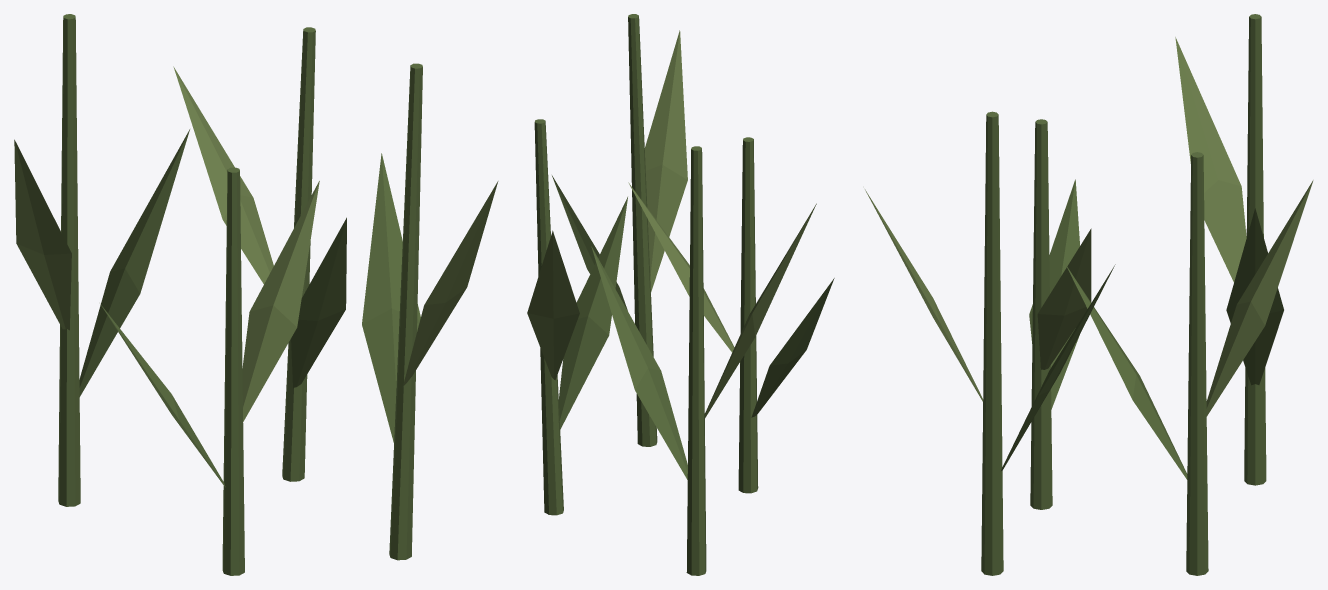
Rendered from reeds_1_spring.glb.
The picture shows the model from 3 angles, left to right: view 1: azimuth 30°, elevation 25°; view 2: azimuth 150°, elevation 25°; view 3: azimuth 270°, elevation 25°; orthographic projection. The views are drawn at different scales.
Parts seen in each view (by area): view 1: reeds_1_spring; view 2: reeds_1_spring; view 3: reeds_1_spring.
Boxes of the visible parts, bbox=[...] form: reeds_1_spring: bbox=[14, 14, 498, 575]; reeds_1_spring: bbox=[527, 14, 834, 575]; reeds_1_spring: bbox=[865, 14, 1313, 575].
Size of the model in its own units: 0.8337 by 1.15 by 1.01.
